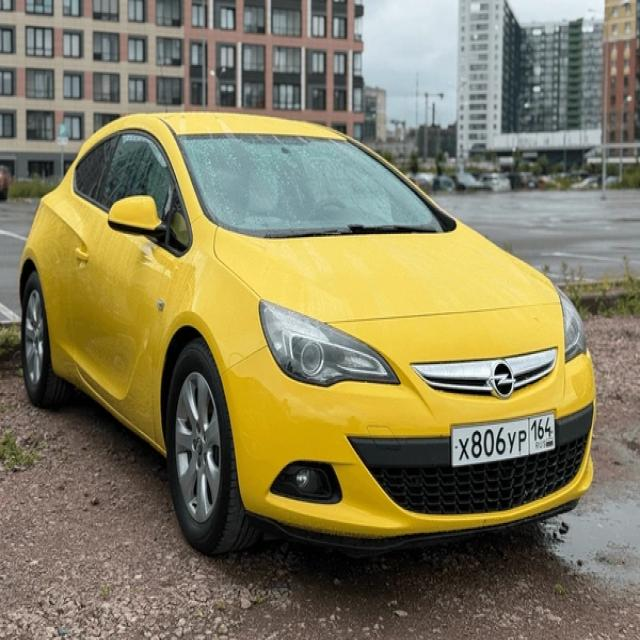opel: (488, 358, 520, 397)
